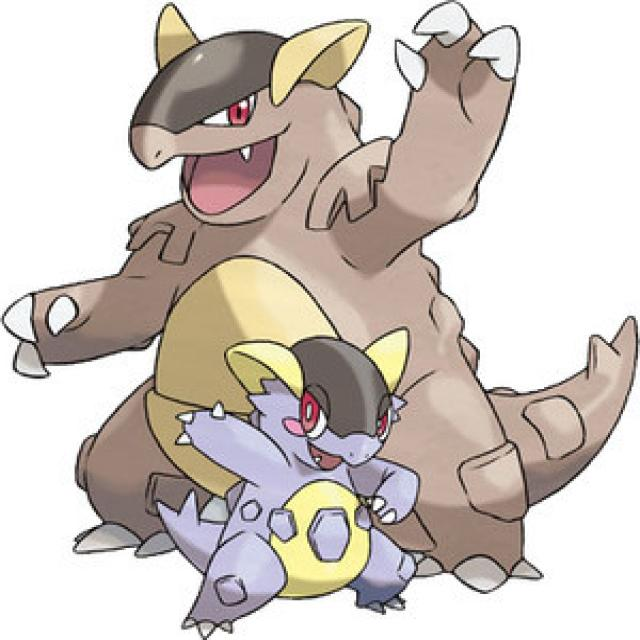Kangaskhan: (62, 0, 556, 602)
